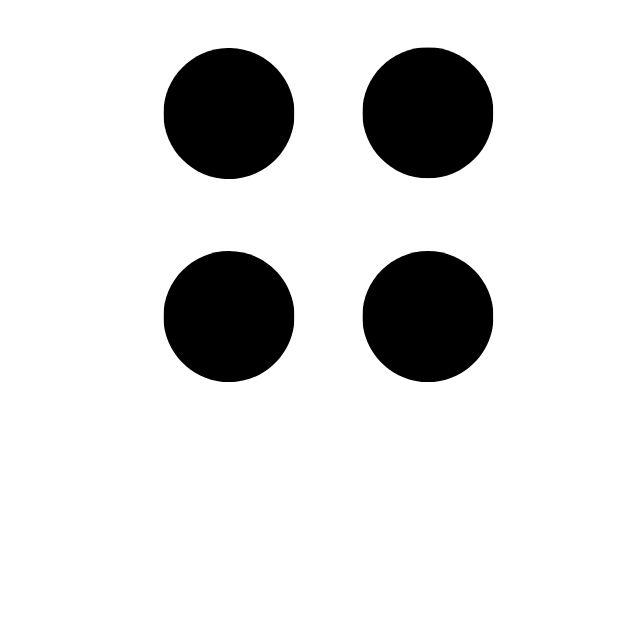g: (160, 44, 495, 575)
